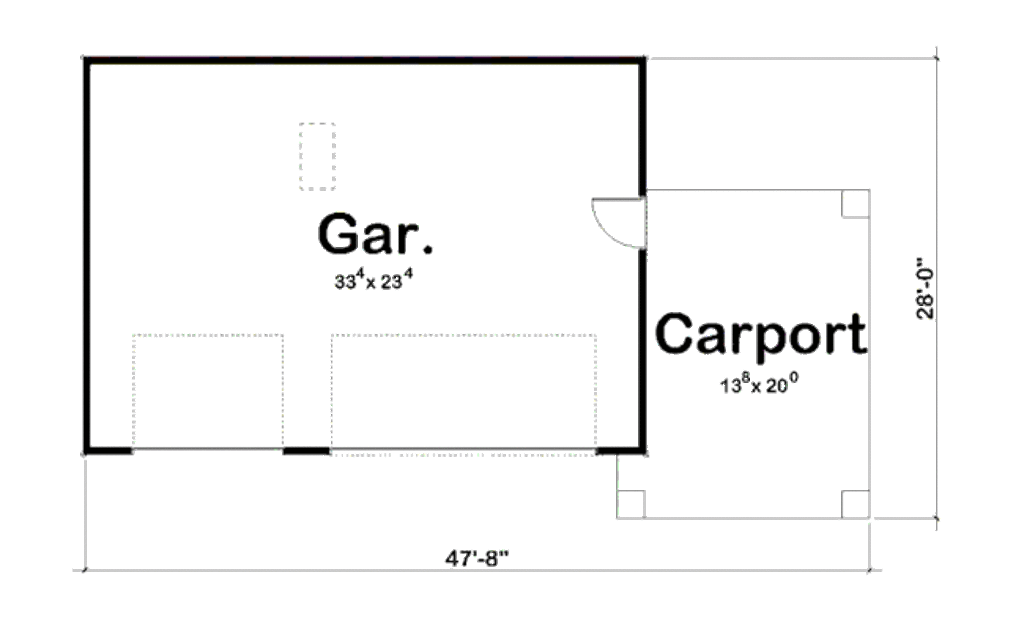door: (570, 186, 654, 253)
